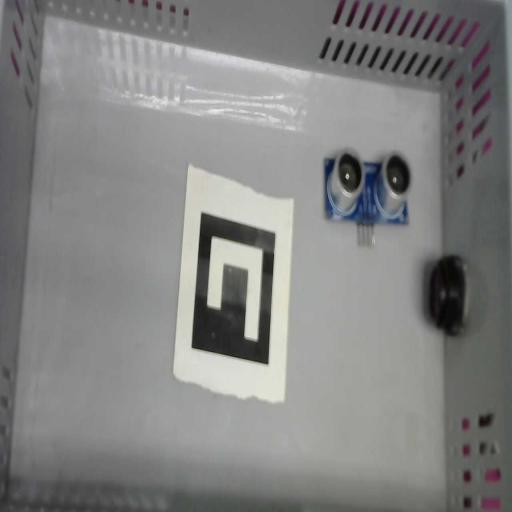QR: (173, 164, 294, 404)
ultrasonic_hc-sr04: (322, 145, 412, 250)
